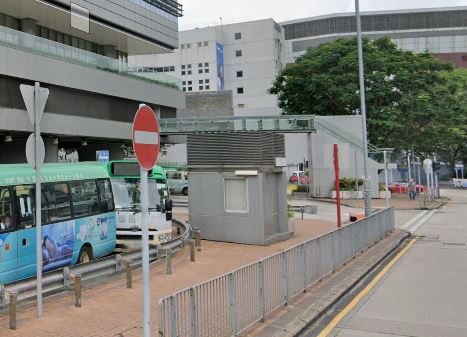No Enter: (132, 104, 162, 169)
